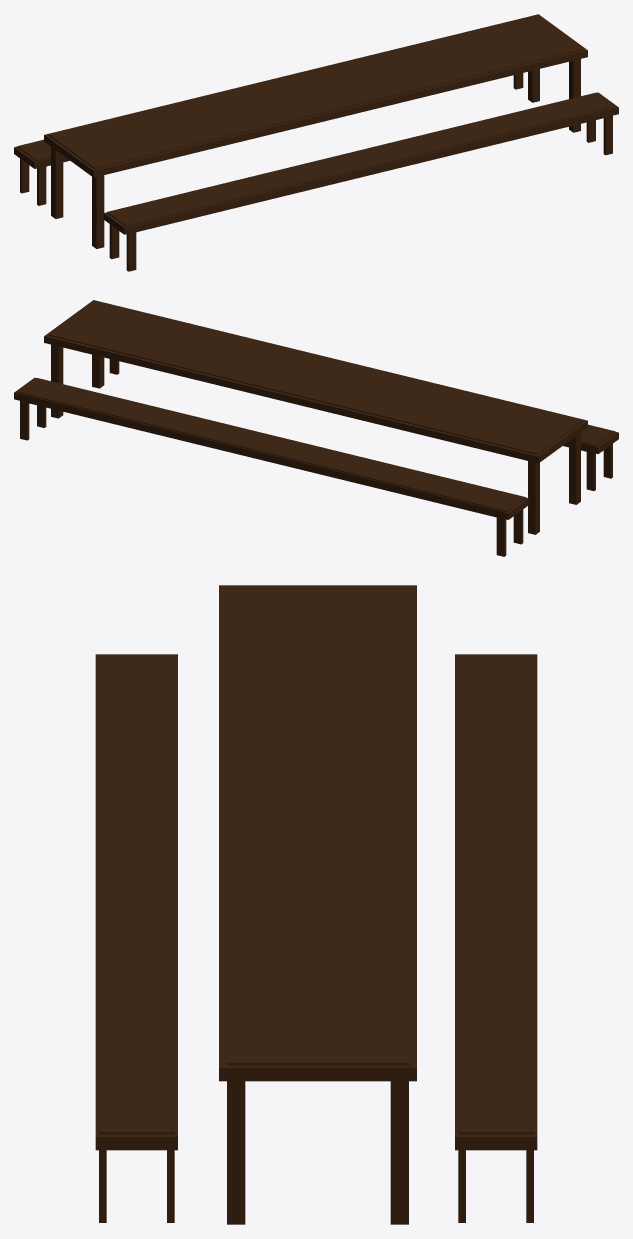
The model's file is banken.fbx.
3 renders of one model, top to bottom at view 1: azimuth 30°, elevation 25°; view 2: azimuth 150°, elevation 25°; view 3: azimuth 270°, elevation 25°, orthographic. The views are drawn at different scales.
Parts seen in each view (by area): view 1: pCube14, pCube15, pCube13; view 2: pCube14, pCube13, pCube15; view 3: pCube14, pCube13, pCube15.
Boxes of the visible parts, x1,y1,x2,y2 form: pCube14: [44, 14, 587, 248]; pCube15: [103, 92, 618, 271]; pCube13: [14, 73, 523, 205]; pCube14: [44, 300, 587, 534]; pCube13: [14, 377, 529, 556]; pCube15: [109, 359, 618, 490]; pCube14: [219, 585, 416, 1224]; pCube13: [455, 654, 537, 1222]; pCube15: [95, 654, 177, 1222].
Bounding box in the file's own units: 17.37 × 2.75 × 6.72.
